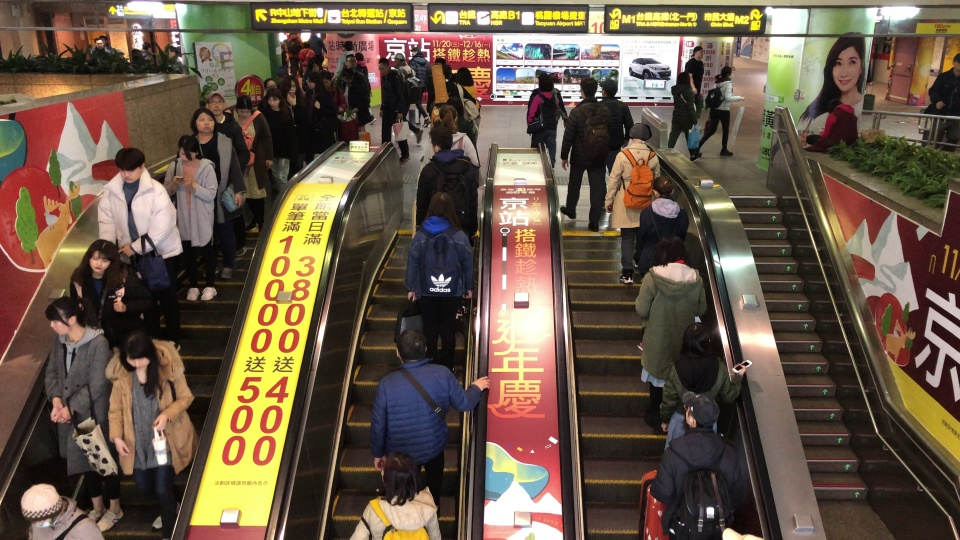person_head: (17, 482, 63, 531), (381, 454, 421, 505), (73, 240, 117, 284), (42, 298, 87, 339), (119, 333, 158, 374), (681, 391, 720, 432), (421, 192, 457, 230), (394, 329, 428, 364), (113, 147, 145, 183), (653, 235, 687, 265), (681, 323, 712, 355), (189, 108, 216, 137), (176, 134, 200, 164), (427, 127, 452, 153), (437, 106, 459, 133), (651, 175, 675, 198), (205, 91, 227, 115), (627, 123, 652, 142), (234, 96, 252, 121), (578, 78, 597, 100), (599, 79, 619, 98), (456, 66, 474, 87), (264, 89, 281, 109), (283, 78, 300, 95), (675, 71, 691, 87), (377, 57, 392, 74), (826, 99, 843, 114), (690, 44, 705, 60), (343, 53, 356, 69), (303, 76, 318, 89), (263, 79, 278, 92), (439, 64, 451, 80), (320, 71, 331, 88), (718, 65, 732, 78), (951, 53, 960, 72), (308, 59, 321, 72), (537, 74, 549, 88), (393, 52, 406, 64), (341, 40, 353, 52), (114, 46, 125, 59), (409, 46, 422, 57), (168, 45, 178, 59), (540, 80, 551, 92), (130, 48, 141, 59), (98, 34, 109, 44), (354, 52, 365, 62), (94, 39, 104, 48), (142, 42, 151, 50), (308, 30, 318, 37), (301, 40, 309, 48), (288, 31, 297, 36)
person_vbox: (368, 329, 490, 517), (37, 298, 129, 532), (103, 333, 198, 537), (97, 146, 186, 341), (648, 390, 743, 540), (637, 235, 708, 427), (404, 191, 476, 374), (655, 323, 746, 452), (188, 107, 246, 279), (162, 134, 218, 301), (637, 174, 689, 350), (606, 122, 661, 284), (557, 79, 611, 233), (348, 453, 442, 540), (414, 126, 480, 244), (67, 239, 144, 340), (203, 90, 248, 256), (427, 62, 484, 167), (231, 97, 275, 233), (14, 482, 105, 540), (697, 64, 745, 157), (375, 55, 412, 163), (596, 77, 634, 175), (258, 91, 292, 193), (925, 52, 960, 151), (424, 106, 481, 166), (667, 70, 704, 162), (527, 81, 562, 172), (392, 51, 424, 147), (280, 77, 308, 174), (805, 98, 856, 146), (527, 73, 568, 130), (302, 76, 328, 163), (408, 45, 434, 126), (339, 51, 366, 126), (353, 51, 378, 125), (683, 44, 705, 120), (427, 57, 452, 107), (320, 71, 347, 114), (456, 66, 480, 108), (256, 77, 284, 110), (333, 40, 357, 77), (307, 29, 328, 70), (301, 61, 330, 90), (286, 30, 304, 73), (297, 40, 316, 74), (98, 33, 116, 57), (91, 38, 110, 58), (166, 45, 183, 65), (140, 42, 155, 62)
